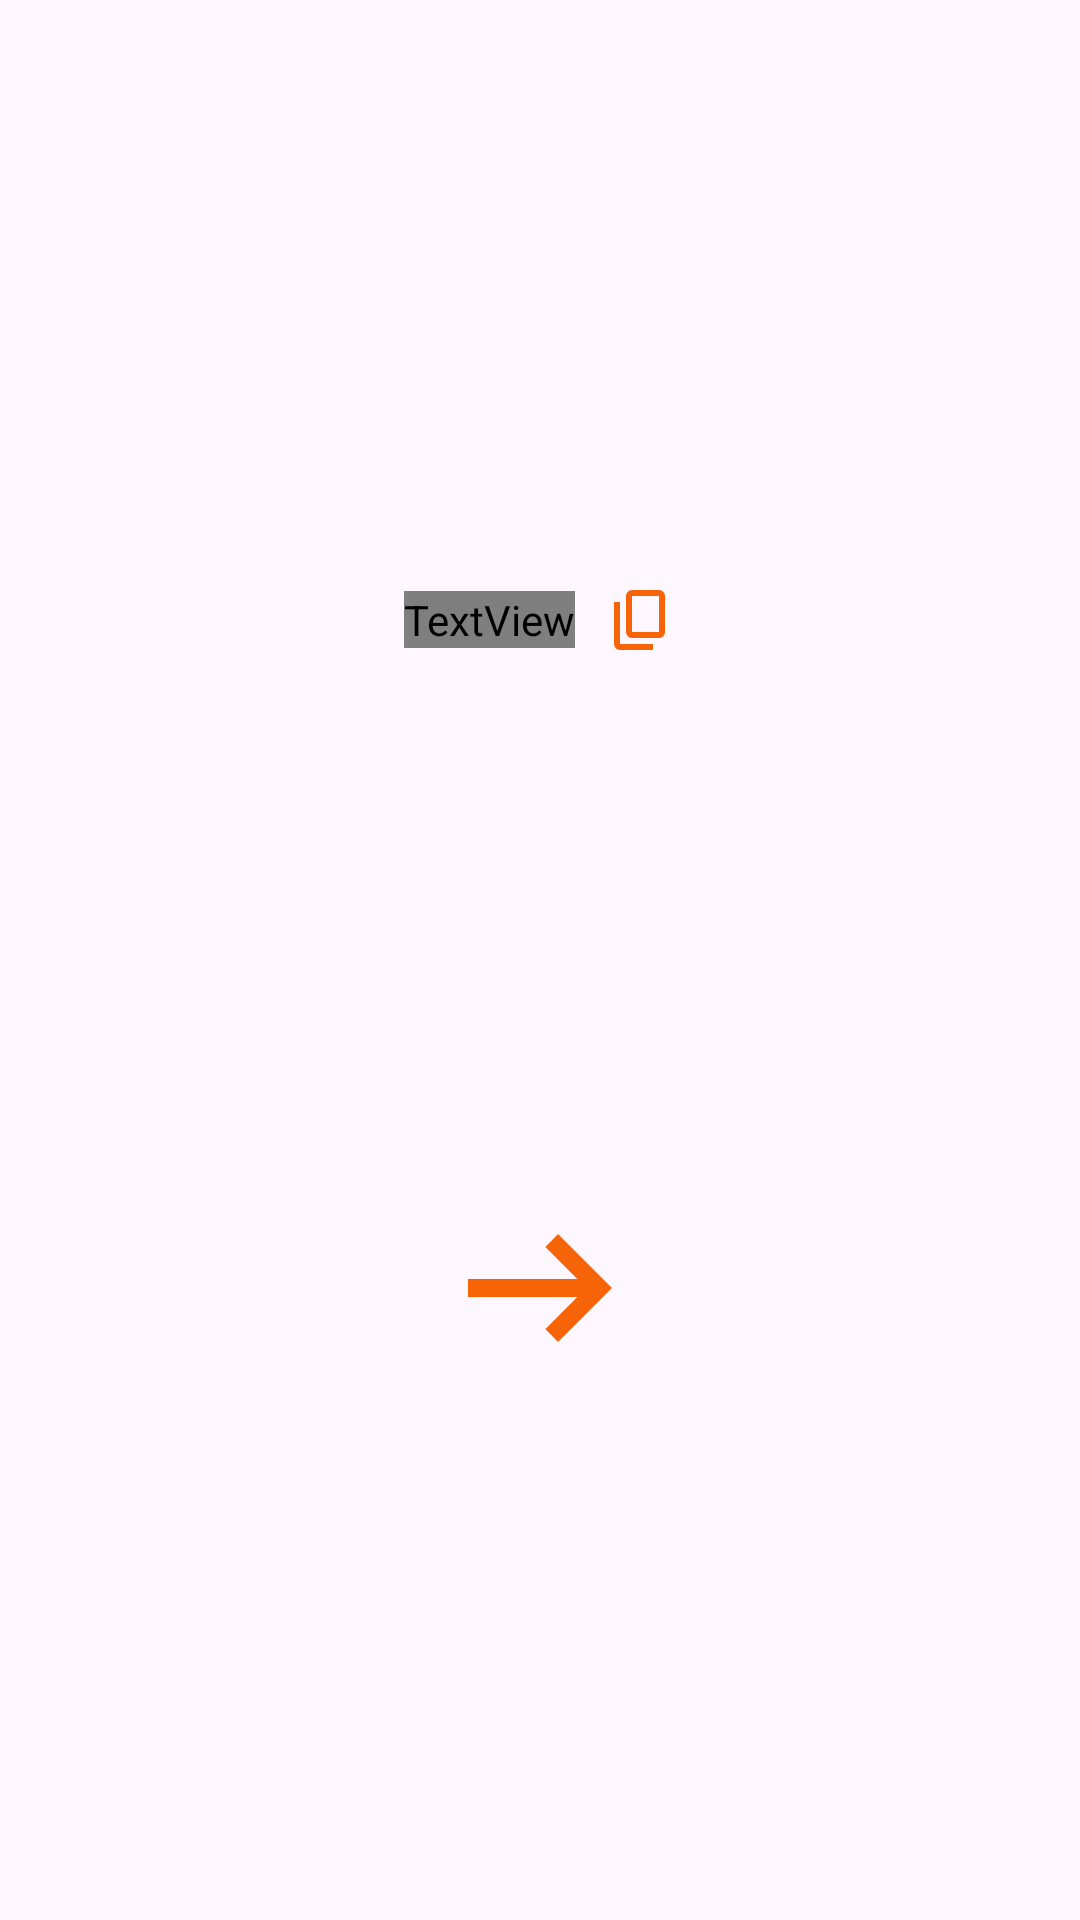

Screen size 1080 × 1920. Icon name, then its box in pixels as [x1, y1, x2, y2]:
arrow right: [468, 1234, 612, 1342]
